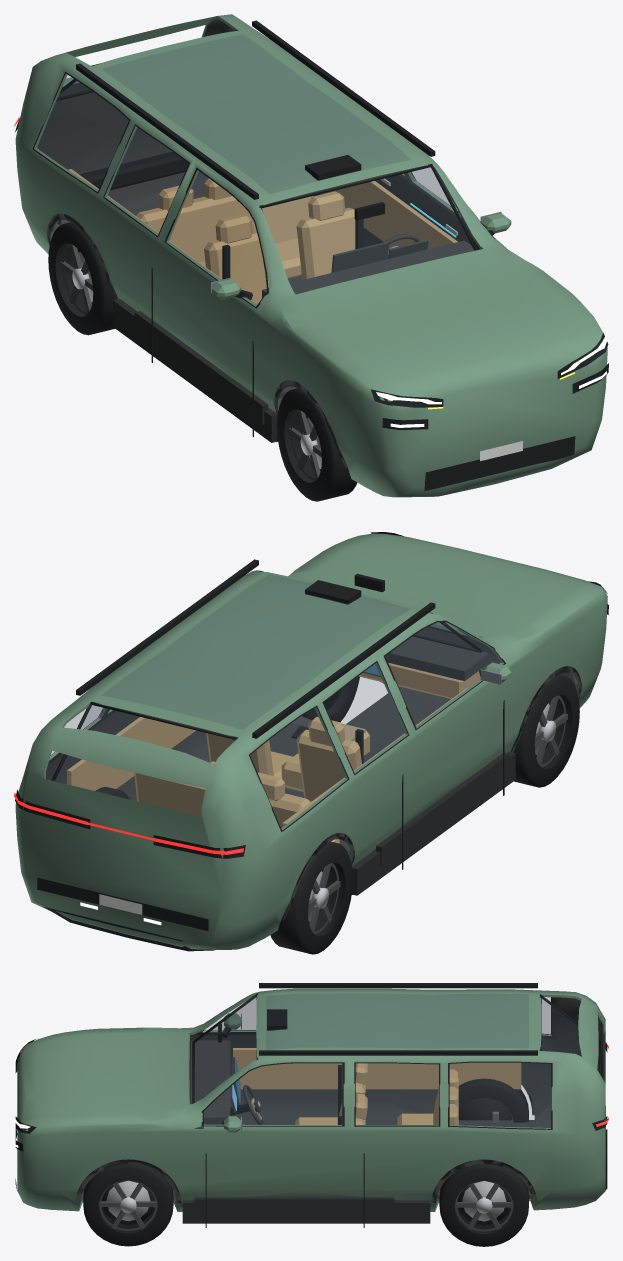
File: onvo-l80.glb
3 renders of one model, top to bottom at view 1: azimuth 30°, elevation 25°; view 2: azimuth 150°, elevation 25°; view 3: azimuth 270°, elevation 25°, orthographic. The views are drawn at different scales.
Parts seen in each view (by area): view 1: Body, Surface_CarRoot_Glass, Interior_CarRoot_InteriorLeather, Surface_CarRoot_BlackTrim, Surface_CarRoot_Cladding, Surface_WheelFrontR_Tyre, Surface_WheelRearR_Tyre, Interior_CarRoot_InteriorDark, Interior_CarRoot_BlackTrim, Surface_WheelFrontR_Rim, Surface_WheelRearR_Rim, Surface_CarRoot_Paint (+1 smaller); view 2: Body, Surface_CarRoot_Glass, Interior_CarRoot_InteriorLeather, Surface_CarRoot_BlackTrim, Surface_CarRoot_Cladding, Surface_WheelRearR_Tyre, Surface_WheelFrontR_Tyre, Interior_CarRoot_InteriorDark, Surface_WheelFrontL_Tyre, Surface_WheelFrontR_Rim, Surface_CarRoot_Taillight, Surface_WheelRearR_Rim (+1 smaller); view 3: Body, Surface_CarRoot_Glass, Interior_CarRoot_InteriorLeather, Surface_CarRoot_Cladding, Surface_CarRoot_BlackTrim, Surface_WheelRearL_Tyre, Surface_WheelFrontL_Tyre, Interior_CarRoot_InteriorDark, Surface_WheelRearR_Tyre, Surface_WheelFrontL_Rim, Surface_WheelRearL_Rim, WheelFrontL_BrakeDisc (+3 smaller).
Boxes of the visible parts, x1,y1,x2,y2 form: Body: (15, 14, 607, 497); Surface_CarRoot_Glass: (34, 35, 494, 305); Interior_CarRoot_InteriorLeather: (68, 169, 457, 304); Surface_CarRoot_BlackTrim: (15, 20, 608, 491); Surface_CarRoot_Cladding: (47, 213, 347, 468); Surface_WheelFrontR_Tyre: (277, 388, 357, 501); Surface_WheelRearR_Tyre: (48, 222, 118, 335); Interior_CarRoot_InteriorDark: (262, 239, 474, 397); Interior_CarRoot_BlackTrim: (222, 202, 384, 279); Surface_WheelFrontR_Rim: (288, 409, 321, 480); Surface_WheelRearR_Rim: (60, 243, 92, 314); Surface_CarRoot_Paint: (212, 213, 511, 299); Body: (15, 533, 607, 949); Surface_CarRoot_Glass: (51, 575, 503, 829); Interior_CarRoot_InteriorLeather: (67, 662, 480, 843); Surface_CarRoot_BlackTrim: (15, 532, 608, 951); Surface_CarRoot_Cladding: (281, 666, 581, 920); Surface_WheelRearR_Tyre: (270, 841, 352, 954); Surface_WheelFrontR_Tyre: (510, 674, 579, 787); Interior_CarRoot_InteriorDark: (269, 636, 489, 854); Surface_WheelFrontL_Tyre: (302, 676, 359, 722); Surface_WheelFrontR_Rim: (535, 695, 567, 766); Surface_CarRoot_Taillight: (14, 792, 243, 854); Surface_WheelRearR_Rim: (308, 863, 340, 933); Body: (17, 988, 605, 1211); Surface_CarRoot_Glass: (195, 994, 598, 1128); Interior_CarRoot_InteriorLeather: (233, 1048, 521, 1125); Surface_CarRoot_Cladding: (75, 1083, 537, 1223); Surface_CarRoot_BlackTrim: (15, 983, 607, 1227); Surface_WheelRearL_Tyre: (439, 1164, 528, 1246); Surface_WheelFrontL_Tyre: (83, 1164, 173, 1246); Interior_CarRoot_InteriorDark: (191, 1040, 535, 1198); Surface_WheelRearR_Tyre: (458, 1078, 528, 1122); Surface_WheelFrontL_Rim: (99, 1182, 157, 1230); Surface_WheelRearL_Rim: (454, 1182, 513, 1231); WheelFrontL_BrakeDisc: (106, 1180, 150, 1221).
Bounding box in the file's own units: 2.32 × 1.76 × 5.2.
